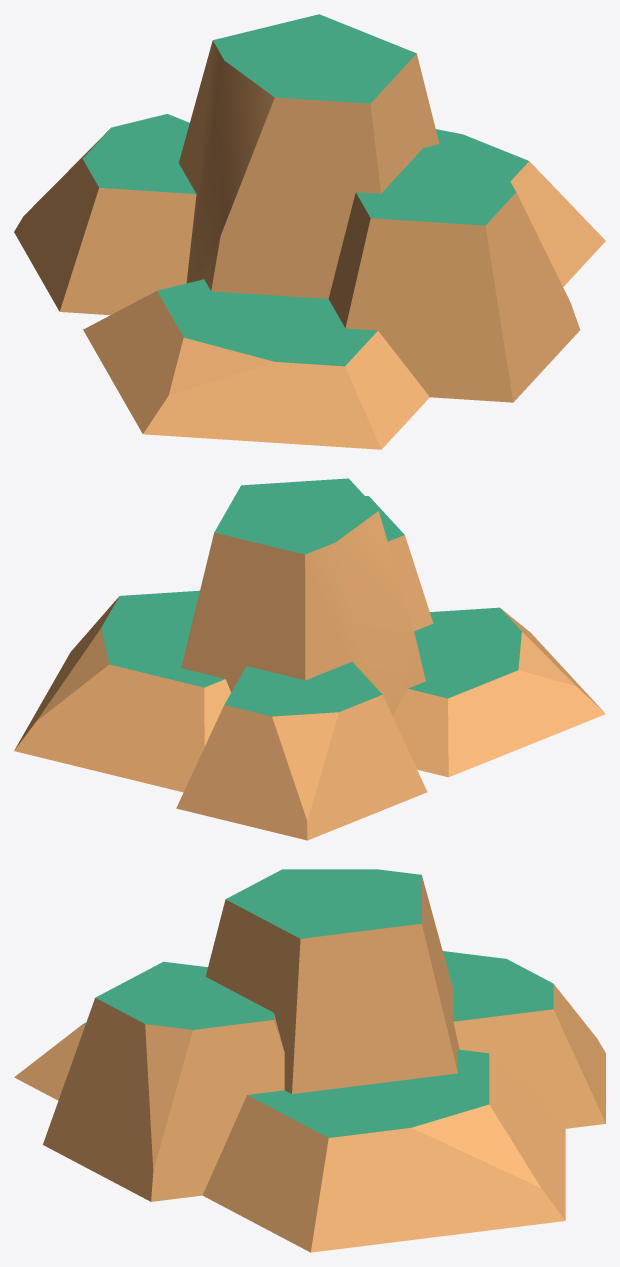
File: detail_dirtLarge.fbx
3 views of the same model, one above another, from view 1: azimuth 30°, elevation 25°; view 2: azimuth 150°, elevation 25°; view 3: azimuth 270°, elevation 25° (orthographic). The views are drawn at different scales.
Parts seen in each view (by area): view 1: detail_dirtLarge; view 2: detail_dirtLarge; view 3: detail_dirtLarge.
Boxes of the visible parts, x1,y1,x2,y2 form: detail_dirtLarge: [14, 14, 605, 449]; detail_dirtLarge: [14, 478, 605, 840]; detail_dirtLarge: [14, 869, 605, 1252].
Bounding box in the file's own units: 10 × 4.19 × 10.
